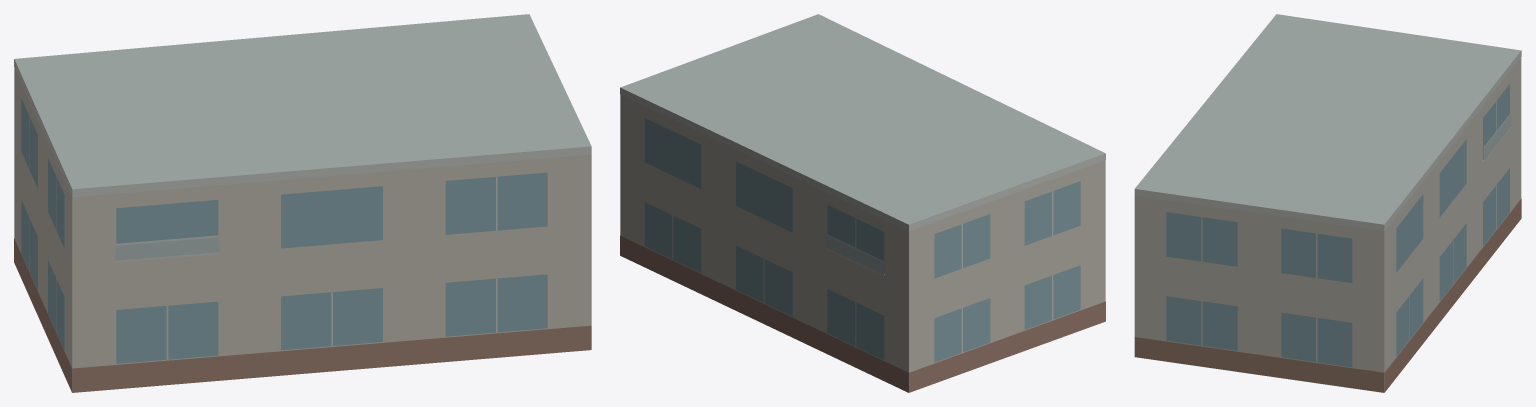
The model's file is survey-upis-32869773.glb.
The picture shows the model from 3 angles, left to right: view 1: azimuth 30°, elevation 25°; view 2: azimuth 150°, elevation 25°; view 3: azimuth 270°, elevation 25°; orthographic projection. The views are drawn at different scales.
Visible parts, largest first — view 1: survey-upis-32869773.tmp; view 2: survey-upis-32869773.tmp; view 3: survey-upis-32869773.tmp.
Part boxes in pixels (x1=…): survey-upis-32869773.tmp: x1=14, y1=14, x2=591, y2=392; survey-upis-32869773.tmp: x1=620, y1=14, x2=1105, y2=392; survey-upis-32869773.tmp: x1=1134, y1=14, x2=1521, y2=392.
Bounding box in the file's own units: 16.4 × 6.1 × 12.72.
